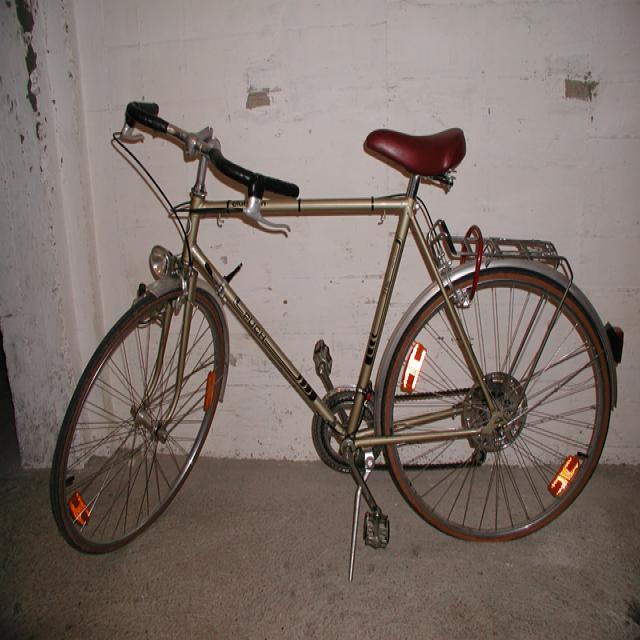bicycle: (48, 98, 623, 582)
